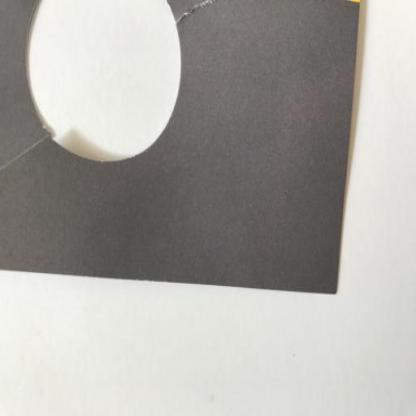trash: (0, 0, 365, 288)
